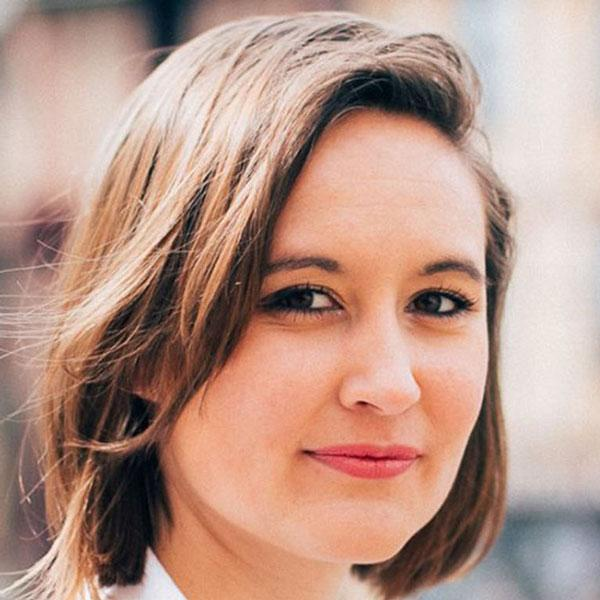Eyes: (252, 272, 355, 334), (392, 278, 476, 333)
